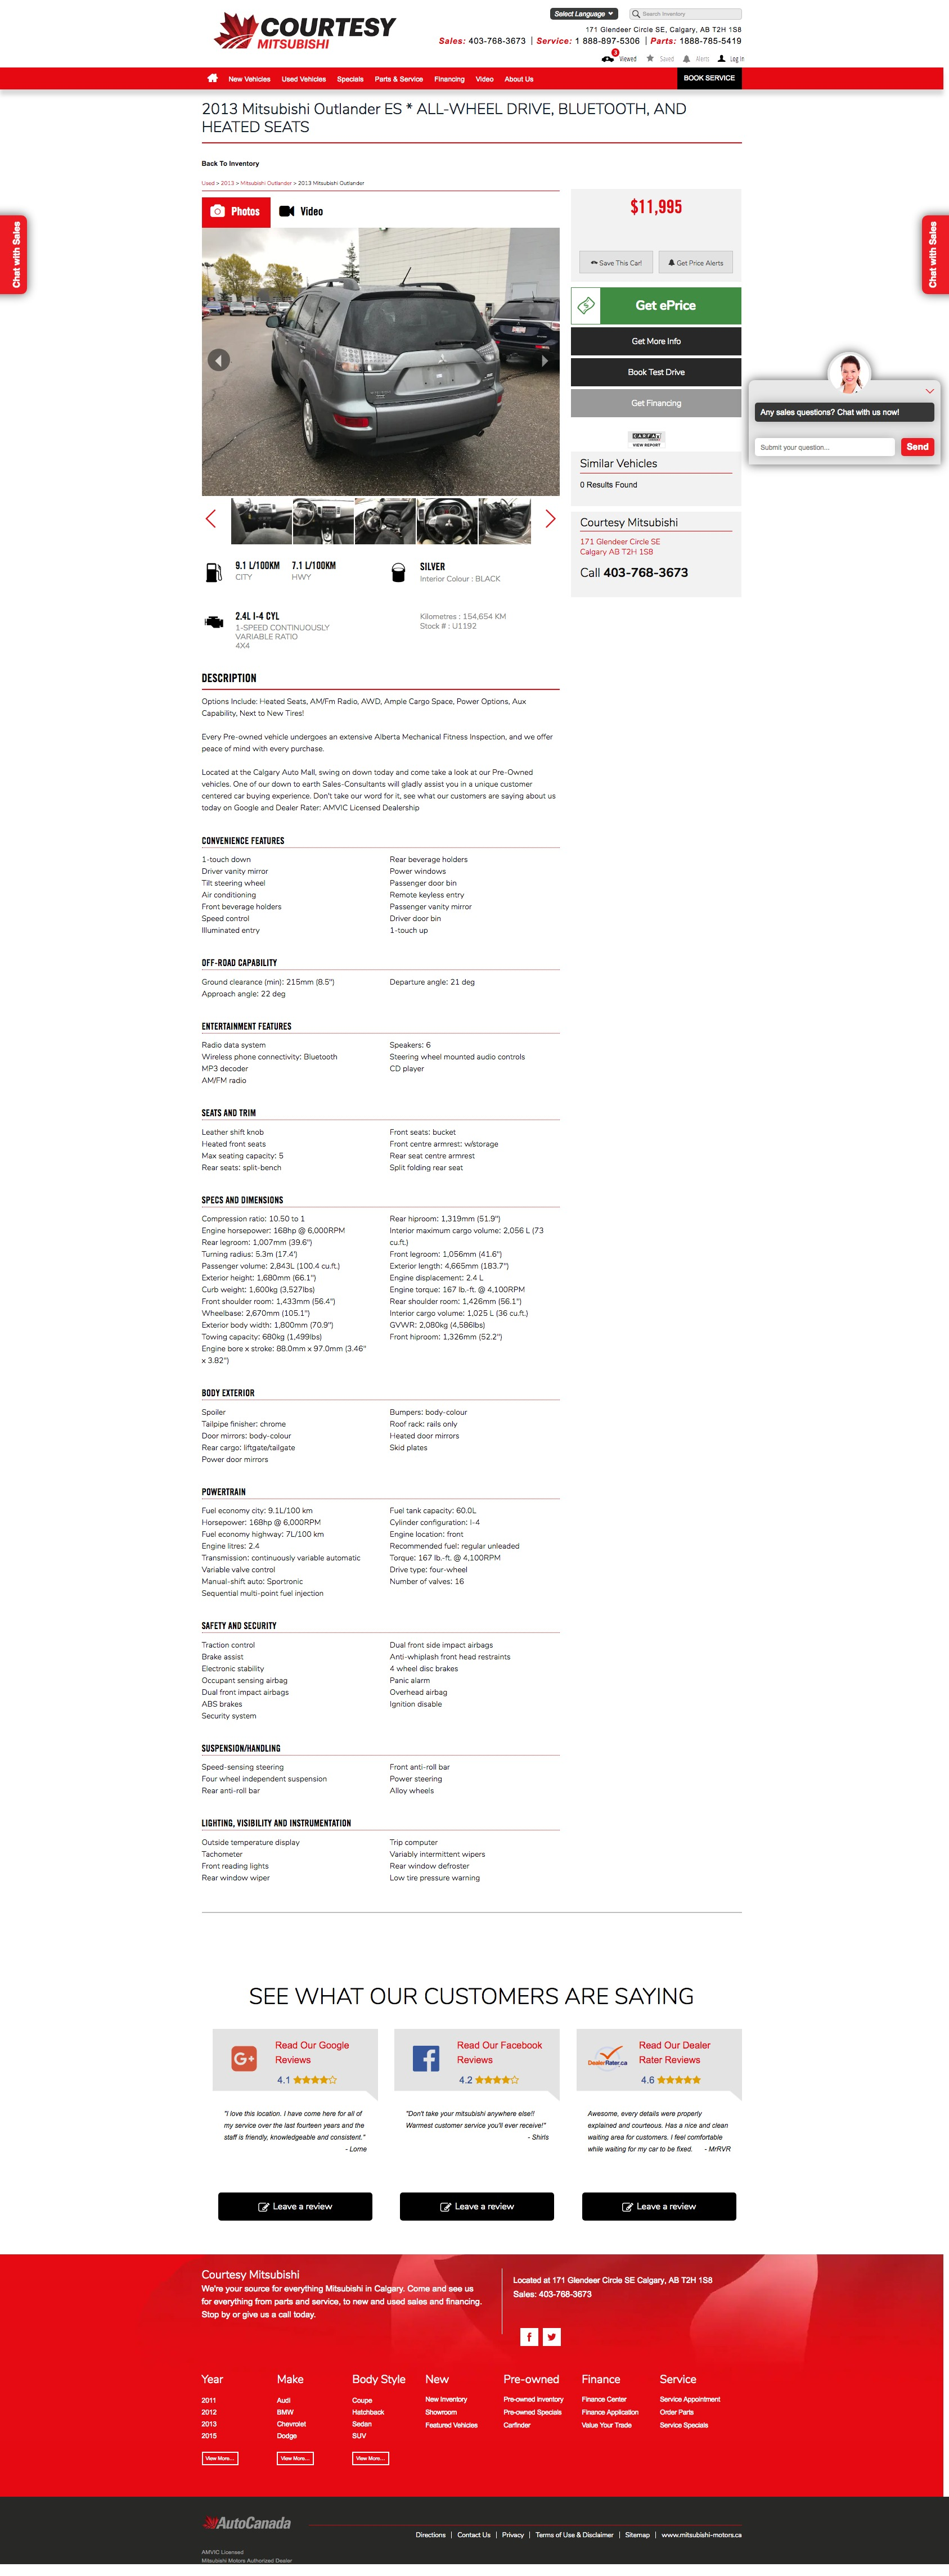car: (544, 509, 556, 529)
